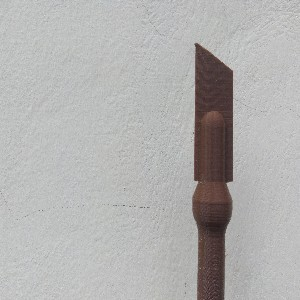cutter: (190, 42, 236, 300)
